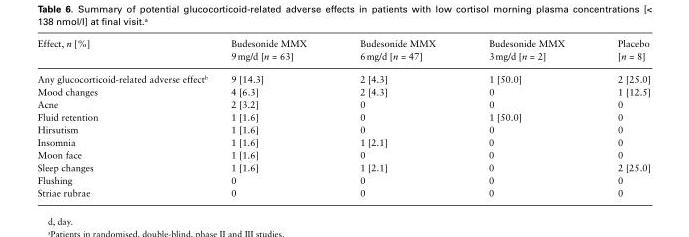table: (36, 37, 649, 197)
table column: (36, 37, 218, 197), (332, 37, 461, 197), (461, 37, 590, 197), (218, 37, 332, 197), (590, 37, 649, 197)
table column header: (36, 37, 649, 66)
table row: (36, 37, 649, 66), (36, 66, 649, 84), (36, 84, 649, 97), (36, 109, 649, 122), (36, 122, 649, 135), (36, 147, 649, 160), (36, 160, 649, 173), (36, 97, 649, 109), (36, 135, 649, 147), (36, 173, 649, 185), (36, 185, 649, 197)
